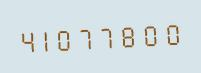eight: (122, 18, 142, 50)
four: (17, 24, 37, 56)
one: (38, 23, 58, 55)
seven: (101, 19, 121, 51), (80, 21, 100, 52)
zero: (59, 22, 79, 54), (143, 17, 163, 49), (164, 16, 184, 48)
